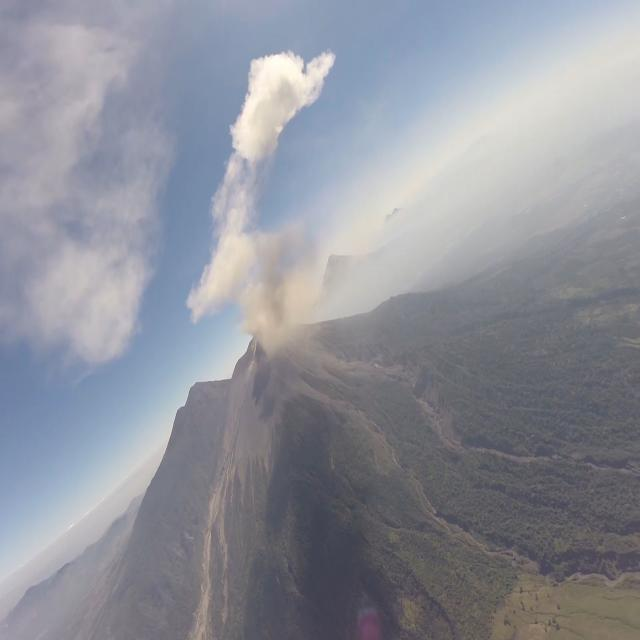Plume: (3, 28, 170, 380), (188, 210, 322, 369), (232, 42, 340, 179)
